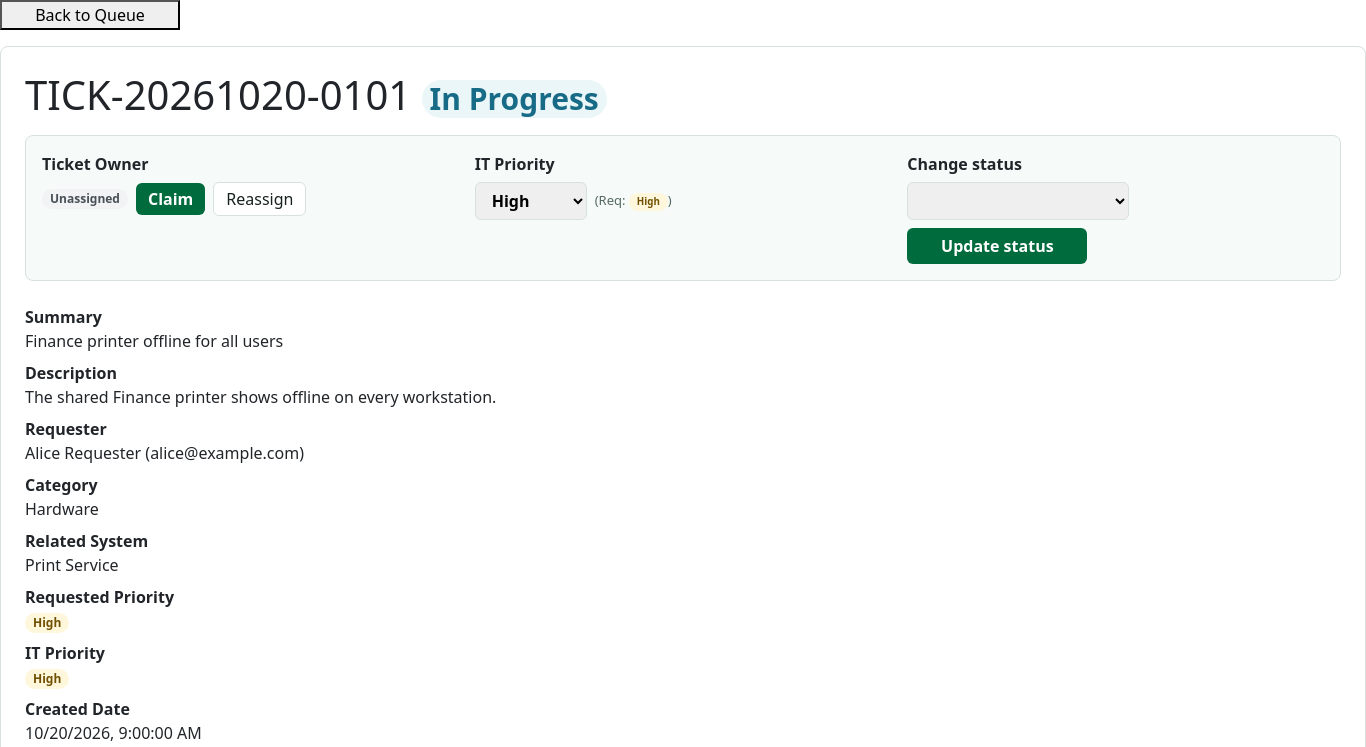
Test case: Ticket workflow UI (UI-11 … UI-17) › UI-14: RESOLUTION_BLOCKED shows the inline message, keeps state and reloads nothing
Check: the heading "TICK-20261020-0101 In Progress" is shown, box [25, 67, 607, 122]
Select "Resolved" in the dropdown labelled "Change status" at point(1018, 201), box [907, 182, 1129, 220]
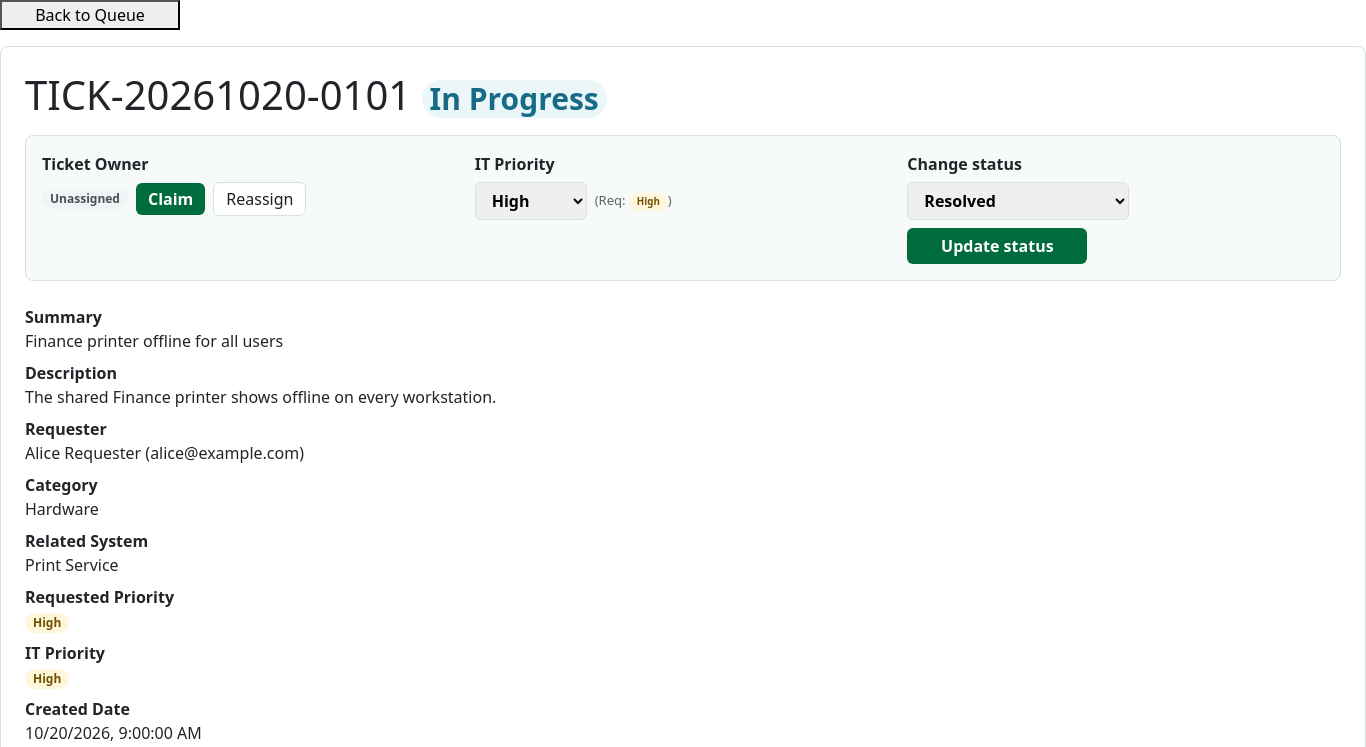
Click the button "Update status".
click(997, 246)  # box [907, 228, 1087, 264]
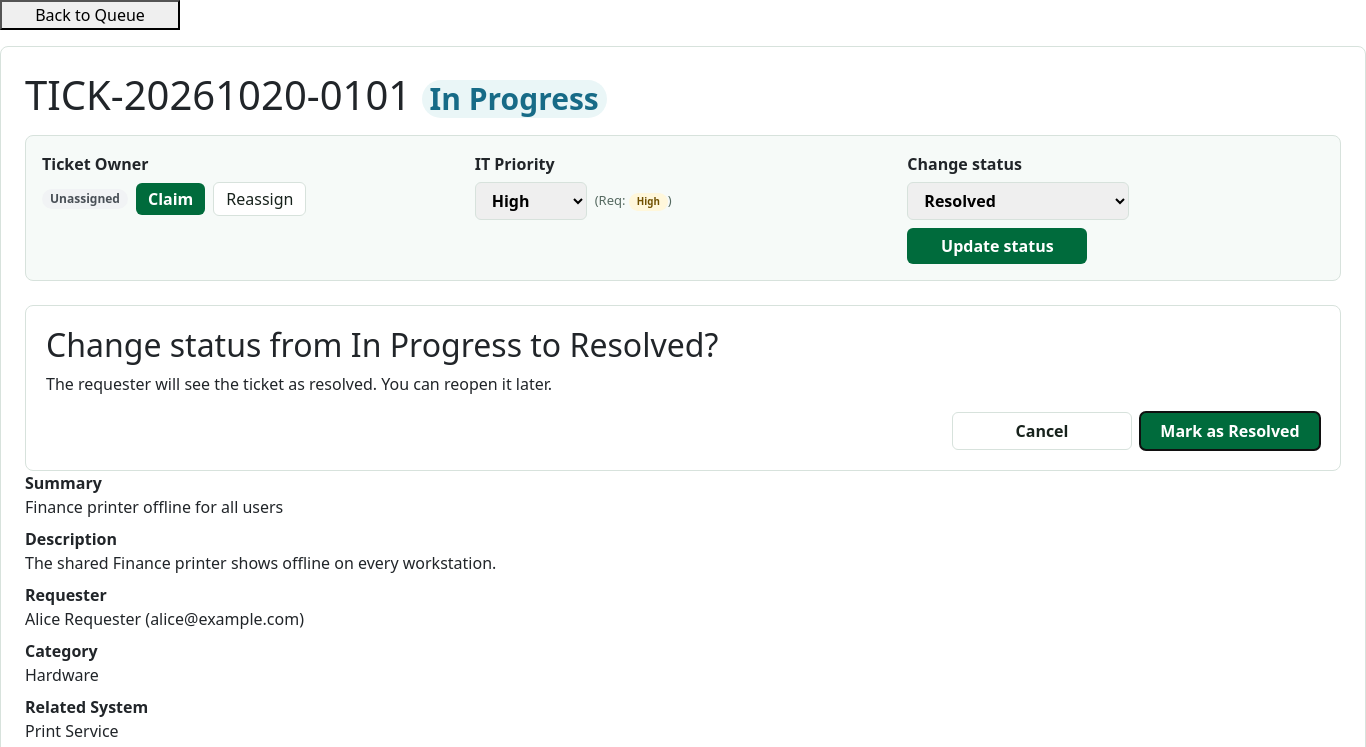
Click the button "Mark as Resolved".
click(1230, 431)  # box [1140, 412, 1320, 450]
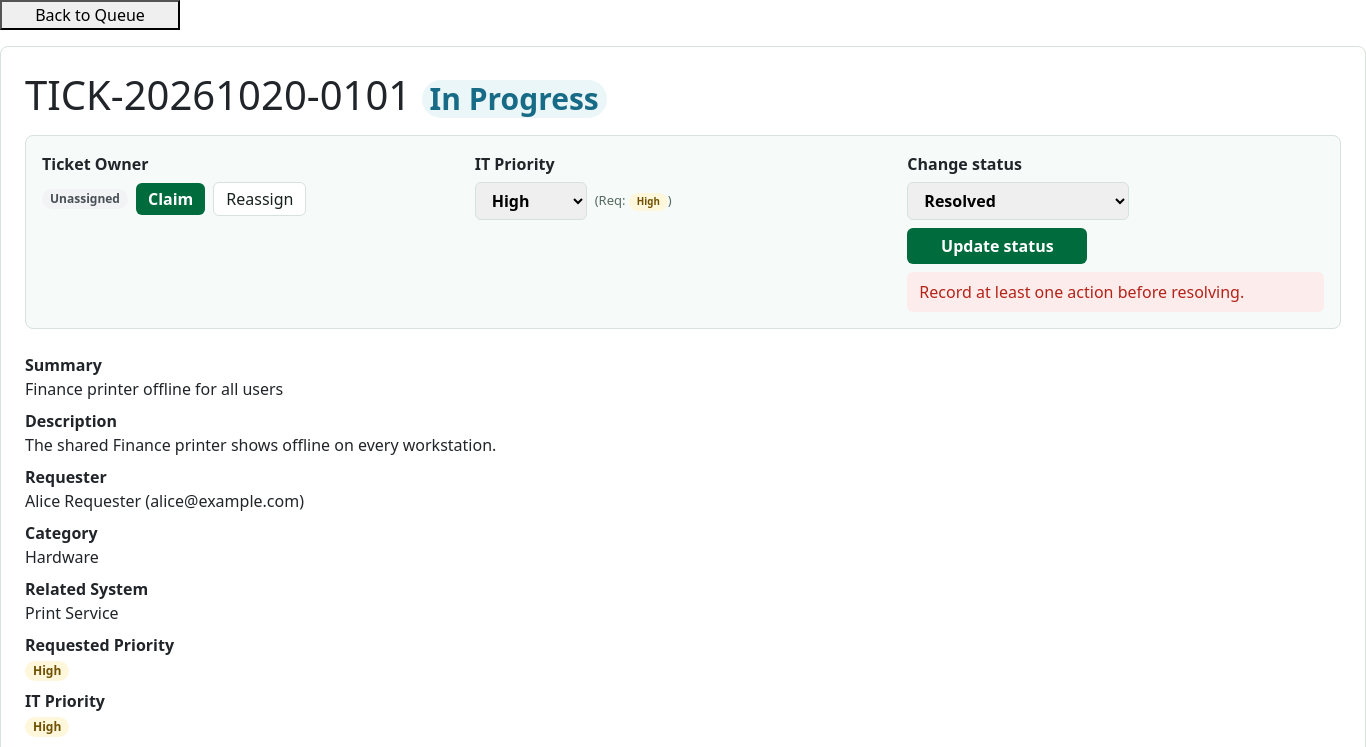
Check: the text "Record at least one action before resolving." is shown, box [907, 272, 1324, 312]
Check: the dialog is gone
